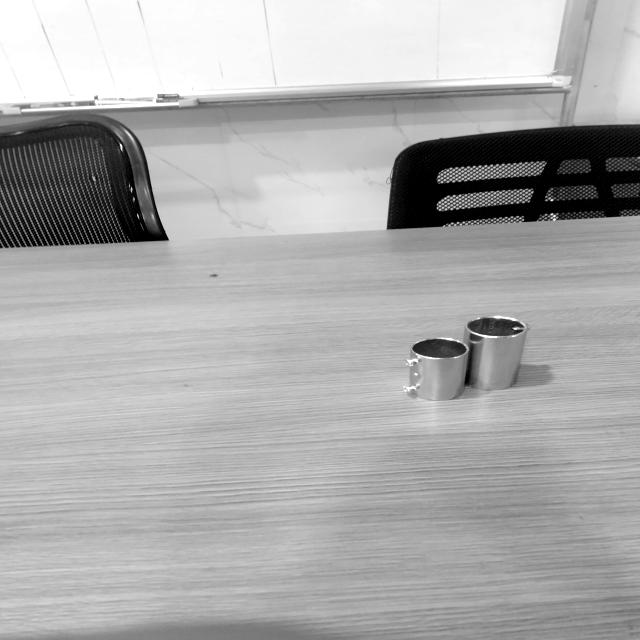Co_Lon: (463, 314, 528, 392)
Co_Nho: (403, 335, 470, 403)
